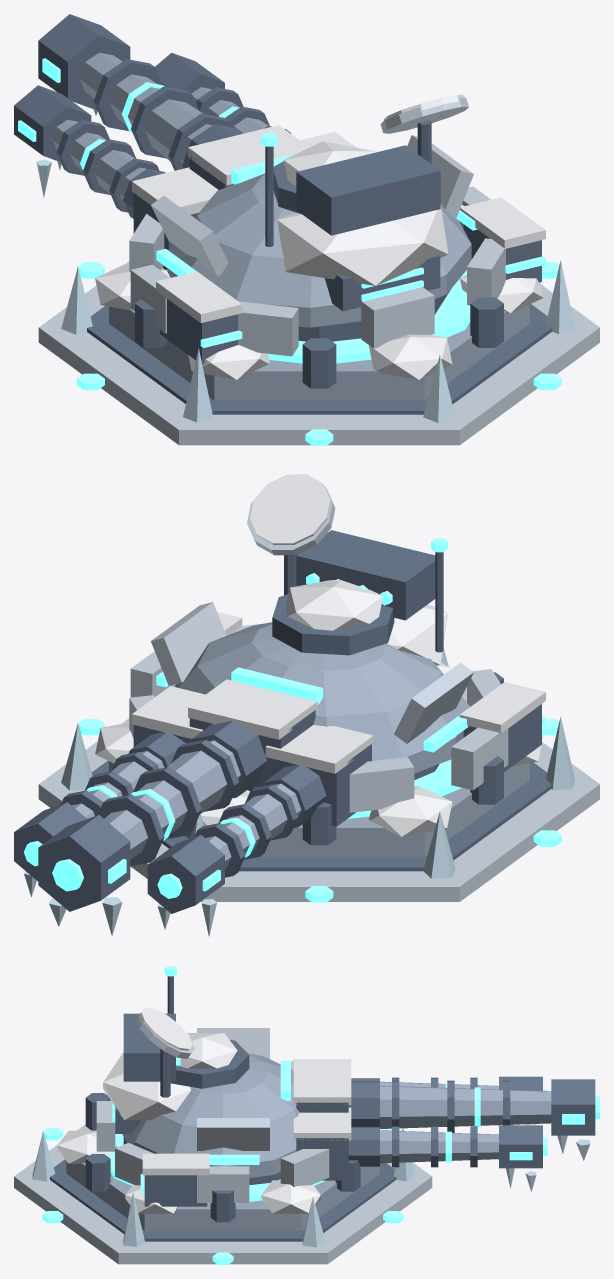
The model's file is turret_lvl6.glb.
3 renders of one model, top to bottom at view 1: azimuth 30°, elevation 25°; view 2: azimuth 150°, elevation 25°; view 3: azimuth 270°, elevation 25°, orthographic. The views are drawn at different scales.
Visible parts, largest first — view 1: BaseTier_70, Dome_05, Base_01, MissileRack_87, SnowBlanket_92, BaseSkirt_02, MuzzleBrake_43, BarrelTube_38, SkirtPlate_85, SnowCap_36, MuzzleBrake_15, SkirtPlate_84 (+42 smaller); view 2: Dome_05, BaseTier_70, MissileRack_87, Base_01, BaseSkirt_02, MuzzleBrake_43, SnowCap_36, BarrelTube_38, SnowDish_108, SnowCupola_105, MuzzleBrake_15, Cupola_69 (+38 smaller); view 3: BaseTier_70, Dome_05, Base_01, BarrelTube_38, BaseSkirt_02, SnowBlanket_92, BarrelTube_24, ArmorPlate_56, MuzzleBrake_43, SnowCap_36, MissileRack_87, MuzzleBrake_29 (+33 smaller).
Boxes of the visible parts, box(x1,y1,x2,y2) form: BaseTier_70: box(38, 261, 599, 445); Dome_05: box(167, 173, 471, 327); Base_01: box(109, 268, 529, 400); MissileRack_87: box(296, 145, 440, 235); SnowBlanket_92: box(277, 205, 448, 285); BaseSkirt_02: box(87, 304, 552, 414); MuzzleBrake_43: box(38, 14, 130, 110); BarrelTube_38: box(79, 52, 211, 163); SkirtPlate_85: box(361, 287, 434, 348); SnowCap_36: box(188, 125, 309, 185); MuzzleBrake_15: box(14, 85, 91, 161); SkirtPlate_84: box(238, 301, 298, 356); Dome_05: box(175, 622, 469, 773); BaseTier_70: box(38, 687, 599, 901); MissileRack_87: box(296, 530, 435, 620); Base_01: box(109, 761, 529, 857); BaseSkirt_02: box(91, 761, 551, 871); MuzzleBrake_43: box(38, 815, 130, 911); SnowCap_36: box(188, 679, 317, 739); BarrelTube_38: box(104, 740, 240, 859); SnowDish_108: box(250, 474, 331, 544); SnowCupola_105: box(285, 580, 382, 630); MuzzleBrake_15: box(147, 835, 224, 913); Cupola_69: box(272, 594, 394, 655); BaseTier_70: box(14, 1124, 432, 1264); Dome_05: box(122, 1053, 299, 1177); Base_01: box(66, 1130, 379, 1230); BarrelTube_38: box(380, 1085, 551, 1128); BaseSkirt_02: box(50, 1159, 396, 1241); SnowBlanket_92: box(103, 1052, 190, 1120); BarrelTube_24: box(380, 1130, 498, 1163); ArmorPlate_56: box(197, 1118, 269, 1150); MuzzleBrake_43: box(551, 1079, 595, 1135); SnowCap_36: box(293, 1064, 351, 1104); MissileRack_87: box(123, 1013, 175, 1081); MuzzleBrake_29: box(499, 1125, 542, 1168).
Size of the model in its own units: 5.51 by 2.96 by 7.85.
